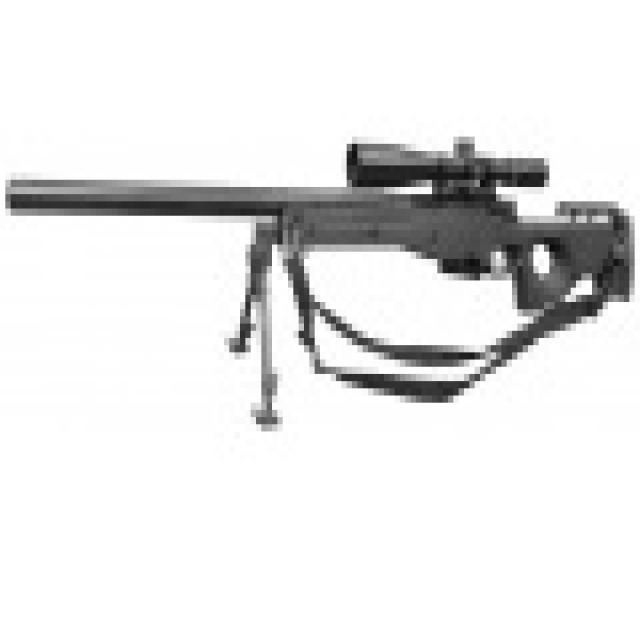Gun: (16, 121, 618, 382)
